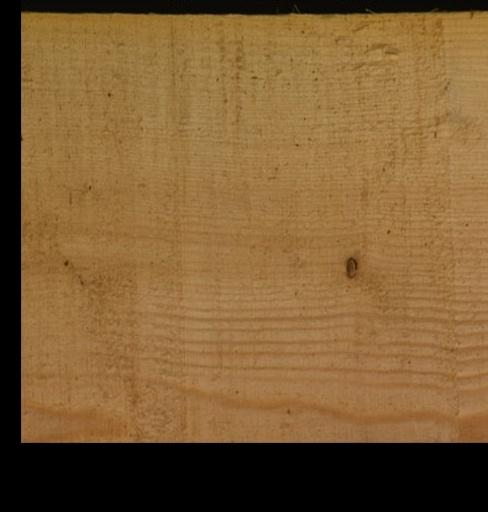dry_knot: (343, 253, 357, 278)
small_knot: (59, 254, 71, 267)
